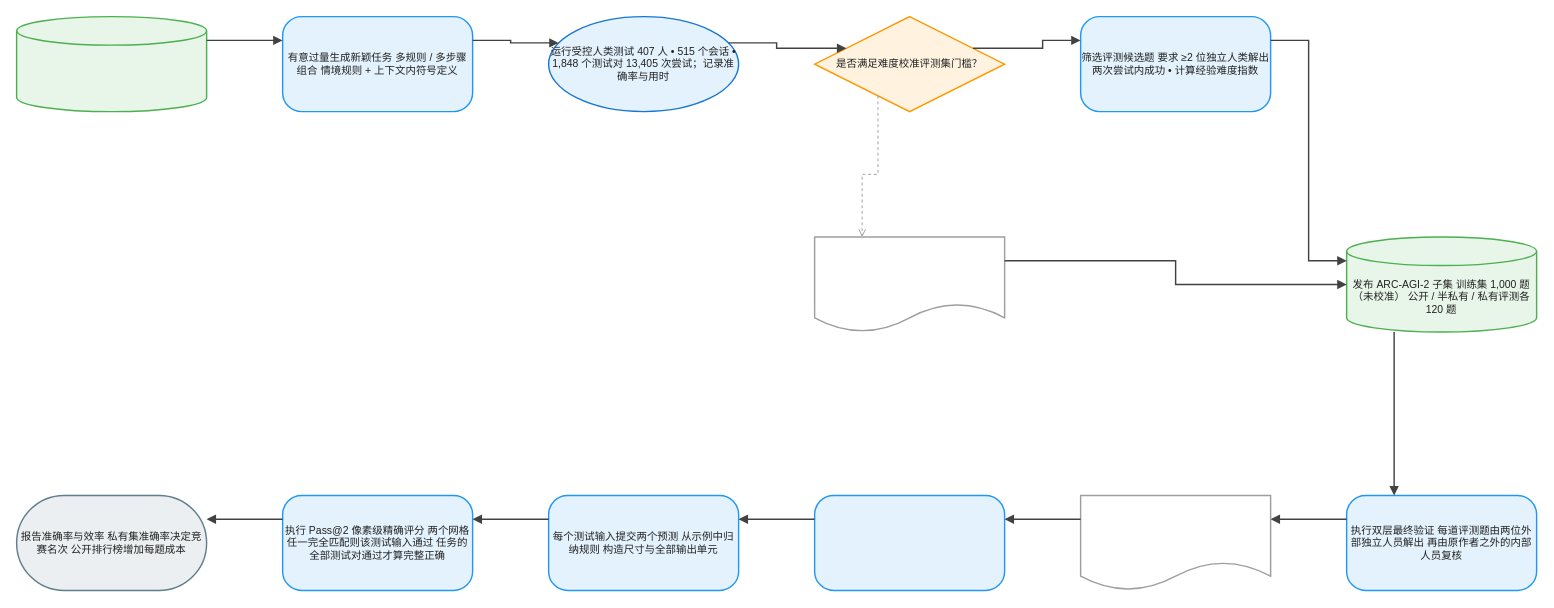
Image size: 1554x608. Some labels were removed from this diagram. Each missing label, with the box of its shape:
呈现静态网格任务 通常 2–5 个示例输入/输出对 ≤30×30 网格 • 最多 10 色 • 未见测试输入: (1079, 494, 1271, 591)
汇集候选任务来源 专门新编的 ARC-AGI-2 任务 以往 ARC 版本未使用的保留题: (15, 15, 207, 112)
路由非评测候选题 较易且有效任务 → 公开训练集 不可解、冗余或有缺陷任务 → 移除: (813, 236, 1005, 332)
运行 ARC Prize 离线评测 120 半私有 + 120 私有未见任务 四张 L4 • 12 小时 • 禁止联网: (813, 494, 1005, 591)
